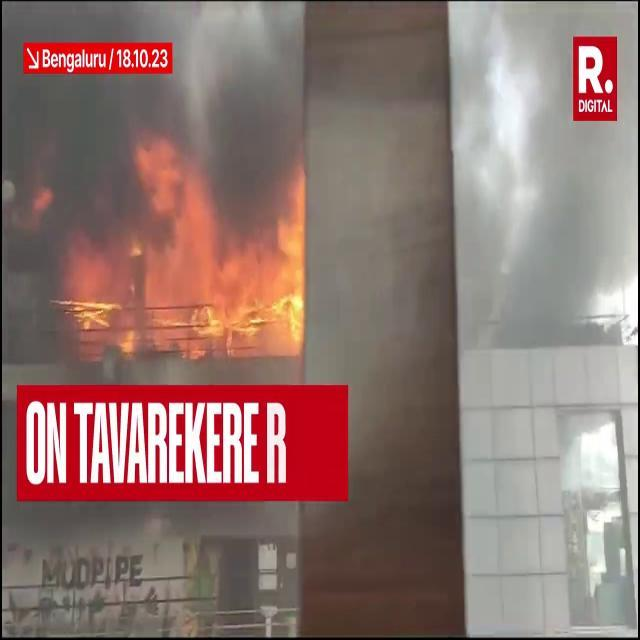Fire: (63, 178, 304, 340)
